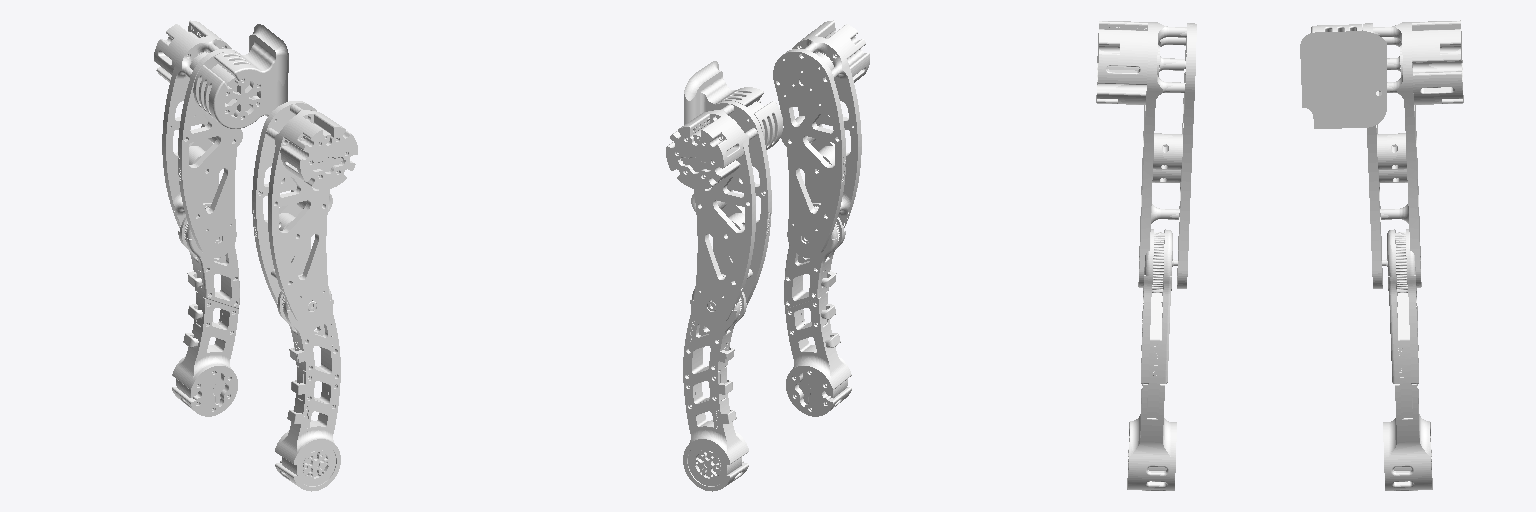
robot.urdf — wheel_GOAT:
<?xml version="1.0" encoding="utf-8"?>
<robot name="wheel_GOAT">
    <!-- Enable when Base link is fixed -->
    
    <!-- 
    <link name="world"/>
    <joint name="base_static_Joint" type="fixed">
        <origin rpy="0 0 0" xyz="0 0 0.3"/>
        <parent link="world"/>
        <child link="base_Link"/>
    </joint>
    -->

    <!-- ****************************************** Link ******************************************************** -->

    <link name="base_Link">
        <!-- No Hip motor version -->
        <inertial>
            <origin rpy="0 0 0" xyz="0.0 0.0 0.0"/>
            <mass value="2.810462"/>
            <inertia ixx="14480E-06" ixy="-37.700908E-06" ixz="4110E-06"
                    iyy="19890E-06" iyz="18.913079E-06" izz="17430E-06"/>
        </inertial>
        <visual>
            <origin xyz="0.0 0.0 0.0" rpy="0 0 0"/>
            <geometry>
                <mesh filename="../meshes/base_Link.stl"/>
            </geometry>
            <material name="blue">
                <color rgba="0.0 0.0 0.8 1.0"/>
            </material>
        </visual>
        <collision>
            <origin xyz="-11E-03 0E-03 41E-03" rpy="0 0 0"/>
            <geometry>
                <box size="0.214 0.200 0.182"/>
            </geometry>
        </collision>
        <!-- <collision>
            <origin xyz="0.07 0.0 -0.078" rpy="0 0 0"/>
            <geometry>
                <box size="0.07 0.25 0.08"/>
            </geometry>
        </collision> -->
    </link>

    <link name="hip_L_Link">
        <inertial>
            <origin rpy="0 0 0" xyz="-47.762E-03 -38.810E-03 0.471E-03"/>
            <mass value="0.320539"/>
            <inertia ixx="143.9E-06" ixy="-5.376781E-06" ixz="-10.335937E-06"
                    iyy="227.7E-06" iyz="-1.391116E-06" izz="195.4E-06"/>
        </inertial>
        <visual>
            <origin xyz="0 0 0" rpy="0 0 0"/>
            <geometry>
                <mesh filename="../meshes/hip_L_Link.stl"/>
            </geometry>
            <material name="white">
                <color rgba="1.0 1.0 1.0 1.0"/>
            </material>
        </visual>
        <collision>
            <origin xyz="-53.5E-03 0 0" rpy="1.57 0 0"/>
            <geometry>
                <cylinder length="135E-03" radius="42E-03"/>
            </geometry>
        </collision>
    </link>

    <link name="hip_R_Link">
        <inertial>
            <origin rpy="0 0 0" xyz="-47.762E-03 38.810E-03 0.471E-03"/>
            <mass value="0.320539"/>
            <inertia ixx="143.9E-06" ixy="5.376781E-06" ixz="-10.335937E-06"
                    iyy="227.7E-06" iyz="1.391116E-06" izz="195.4E-06"/>
        </inertial>
        <visual>
            <origin xyz="0 0 0" rpy="0 0 0"/>
            <geometry>
                <mesh filename="../meshes/hip_R_Link.stl"/>
            </geometry>
            <material name="white">
                <color rgba="1.0 1.0 1.0 1.0"/>
            </material>
        </visual>
        <collision>
            <origin xyz="-53.5E-03 0 0" rpy="1.57 0 0"/>
            <geometry>
                <cylinder length="135E-03" radius="42E-03"/>
            </geometry>
        </collision>
    </link>

    <link name="thigh_L_Link">
        <inertial>
            <origin rpy="0 0 0" xyz="-2.656E-03 48.26E-03 -41.71E-03"/>
            <mass value="0.520075"/>
            <inertia ixx="2950E-06" ixy="-30.788885E-06" ixz="-120.3E-06"
                    iyy="2808E-06" iyz="-490E-06" izz="489.2E-06"/>
        </inertial>
        <visual>
            <origin xyz="0 0 0" rpy="0 0 0"/>
            <geometry>
                <mesh filename="../meshes/thigh_L_Link.stl"/>
            </geometry>
            <material name="white">
                <color rgba="1.0 1.0 1.0 1.0"/>
            </material>
        </visual>
        <collision>
            <origin xyz="-11E-03 16E-03 -116E-03" rpy="0 0 0"/>
            <geometry>
                <box size="0.09 0.05 0.145"/>
            </geometry>
        </collision>
    </link>

    <link name="thigh_R_Link">
        <inertial>
            <origin rpy="0 0 0" xyz="-2.656E-03 -48.26E-03 -41.71E-03"/>
            <mass value="0.520075"/>
            <inertia ixx="2950E-06" ixy="30.788885E-06" ixz="-120.3E-06"
                    iyy="2808E-06" iyz="490E-06" izz="489.2E-06"/>
                    
        </inertial>
        <visual>
            <origin xyz="0 0 0" rpy="0 0 0"/>
            <geometry>
                <mesh filename="../meshes/thigh_R_Link.stl"/>
            </geometry>
            <material name="white">
                <color rgba="1.0 1.0 1.0 1.0"/>
            </material>
        </visual>
        <collision>
            <origin xyz="-11E-03 -16E-03 -116E-03" rpy="0 0 0"/>
            <geometry>
                <box size="0.09 0.05 0.145"/>
            </geometry>
        </collision>
    </link>
        
    <link name="calf_L_Link">
        <inertial>
            <origin rpy="0 0 0" xyz="2.229E-03 0.879E-03 -153.549E-03"/>
            <mass value="0.326882"/>
            <inertia ixx="1948E-06" ixy="0.336927E-06" ixz="-35.309161E-06"
                    iyy="1991E-06" iyz="10.159437E-06" izz="105.7E-06"/>
        </inertial>
        <visual>
            <origin xyz="0 0 0" rpy="0 0 0"/>
            <geometry>
                <mesh filename="../meshes/calf_L_Link.stl"/>
            </geometry>
            <material name="white">
                <color rgba="1.0 1.0 1.0 1.0"/>
            </material>
        </visual>
        <collision>
            <origin xyz="0 0 -116E-03" rpy="0 0 0"/>
            <geometry>
                <cylinder length="233E-03" radius="32.5E-03"/>
            </geometry>
        </collision>
    </link>

    <link name="calf_R_Link">
        <inertial>
            <origin rpy="0 0 0" xyz="2.229E-03 -0.879E-03 -153.549E-03"/>
            <mass value="0.326882"/>
            <inertia ixx="1948E-06" ixy="-0.336927E-06" ixz="-35.309161E-06"
                    iyy="1991E-06" iyz="-10.159437E-06" izz="105.7E-06"/>
        </inertial>
        <visual>
            <origin xyz="0 0 0" rpy="0 0 0"/>
            <geometry>
                <mesh filename="../meshes/calf_R_Link.stl"/>
            </geometry>
            <material name="white">
                <color rgba="1.0 1.0 1.0 1.0"/>
            </material>
        </visual>
        <collision>
            <origin xyz="0 0 -116E-03" rpy="0 0 0"/>
            <geometry>
                <cylinder length="233E-03" radius="32.5E-03"/>
            </geometry>
        </collision>
    </link>

    <!-- BFW -->
    <link name="wheel_L_Link">
        <inertial>
            <origin rpy="0 0 0" xyz="0.00E-03 30.66E-03 0.00E-03" />
            <mass value="0.985" />
            <inertia ixx="3366E-06" ixy="0.00E-06" ixz="0.00E-06" 
                    iyy="6306E-06" iyz="0.00E-06" izz="3366E-06" />
        </inertial>
        <visual>
            <origin rpy="0 0 0" xyz="0 0 0" />
            <geometry>
                <mesh filename="../meshes/BF_wheel_L_Link.stl"/>
            </geometry>
            <material name="black">
                <color rgba="0.0 0.0 0.0 1.0"/>
            </material>
        </visual>
        <collision>
            <origin rpy="1.5707963267948966 0 0" xyz="0 0.03 0" />
            <geometry>
                <cylinder length="0.05" radius="0.095" />
            </geometry>
        </collision>
    </link>

    <!-- <link name="wheel_L_Link">
        <inertial>
            <origin rpy="0 0 0" xyz="0.0 8.265E-03 0.0" />
            <mass value="0.220" />
            <inertia ixx="352.7E-06" ixy="0.0" ixz="0.0" 
                    iyy="674E-06" iyz="0.0" izz="352.7E-06" />
        </inertial>
        <visual>
            <origin rpy="0 0 0" xyz="0 0 0" />
            <geometry>
                <mesh filename="../meshes/wheel_L_Link.stl"/>
            </geometry>
            <material name="black">
                <color rgba="0.0 0.0 0.0 1.0"/>
            </material>
        </visual>
        <collision>
            <origin rpy="1.5707963267948966 0 0" xyz="0 7E-03 0" />
            <geometry>
                <cylinder length="7E-03" radius="72.75E-03" />
            </geometry>
        </collision>
    </link> -->

    <!-- BFW -->
    <link name="wheel_R_Link">
        <inertial>
            <origin rpy="0 0 0" xyz="0.00E-03 -30.66E-03 0.00E-03" />
            <mass value="0.985" />
            <inertia ixx="3366E-06" ixy="0.00E-06" ixz="0.00E-06" 
                    iyy="6306E-06" iyz="0.00E-06" izz="3366E-06" />
        </inertial>
        <visual>
            <origin rpy="0 0 0" xyz="0 0 0" />
            <geometry>
                <mesh filename="../meshes/BF_wheel_R_Link.stl"/>
            </geometry>
            <material name="black">
                <color rgba="0.0 0.0 0.0 1.0"/>
            </material>
        </visual>
        <collision>
            <origin rpy="1.5707963267948966 0 0" xyz="0 -0.03 0" />
            <geometry>
                <cylinder length="0.05" radius="0.095" />
            </geometry>
        </collision>
    </link>

    <!-- <link name="wheel_R_Link">
        <inertial>
            <origin rpy="0 0 0" xyz="0.0 -8.265E-03 0.0" />
            <mass value="0.220" />
            <inertia ixx="352.7E-06" ixy="0.0" ixz="0.0" 
                    iyy="674E-06" iyz="0.0" izz="352.7E-06" />
        </inertial>
        <visual>
            <origin rpy="0 0 0" xyz="0 0 0" />
            <geometry>
                <mesh filename="../meshes/wheel_R_Link.stl"/>
            </geometry>
            <material name="black">
                <color rgba="0.0 0.0 0.0 1.0"/>
            </material>
        </visual>
        <collision>
            <origin rpy="1.5707963267948966 0 0" xyz="0 -7E-03 0" />
            <geometry>
                <cylinder length="7E-03" radius="72.75E-03" />
            </geometry>
        </collision>
    </link> -->

    <link name="imu_link">
        <!-- <visual>
            <origin rpy="0 0 0" xyz="0 0 0"/>
            <geometry>
                <box size="0.02 0.02 0.01"/> </geometry>
            <material name="red"/>
        </visual> -->
    </link>


    <!-- ****************************************** Joint ******************************************************** -->
    
    <joint name="hip_L_Joint" type="fixed">
        <origin xyz="57.5927E-03 96.3302E-03 -99.20596E-03" rpy="0.034906585 0 0"/>
        <parent link="base_Link"/>
        <child link="hip_L_Link"/>
        <!--
        <axis xyz="-1 0 0"/>
        <limit effort="4.5" lower="-1.7453" upper="1.0123" velocity="33.5"/>
        <dynamics damping="0.0" stiffness ="0.0"/>
        <dynamics friction="0.0" />
        -->
    </joint>
    
    <joint name="hip_R_Joint" type="fixed">
        <origin xyz="57.5927E-03 -96.3302E-03 -99.20596E-03" rpy="-0.034906585 0 0"/>
        <parent link="base_Link"/>
        <child link="hip_R_Link"/>
        <!--
        <axis xyz="-1 0 0"/>
        <limit effort="4.5" lower="-1.0123" upper="1.7453" velocity="33.5"/>
        <dynamics damping="0.0" stiffness ="0.0"/>
        <dynamics friction="0.0" />
        -->
    </joint>
    
    <joint name="thigh_L_Joint" type="revolute">
        <origin xyz="-54E-03 -17E-03 0" rpy="0 0 0"/>
        <parent link="hip_L_Link"/>
        <child link="thigh_L_Link"/>
        <axis xyz="0 1 0"/>
        <limit effort="4.5" lower="-0.3840" upper="2.0071" velocity="33.5"/>
        <dynamics damping="0.0" stiffness ="0.0"/>
        <dynamics friction="0.0" />
    </joint>

    <joint name="thigh_R_Joint" type="revolute">
        <origin xyz="-54E-03 17E-03 0" rpy="0 0 0"/>
        <parent link="hip_R_Link"/>
        <child link="thigh_R_Link"/>
        <axis xyz="0 -1 0"/>
        <limit effort="4.5" lower="-2.0071" upper="0.3840" velocity="33.5"/>
        <dynamics damping="0.0" stiffness ="0.0"/>
        <dynamics friction="0.0" />
    </joint>

    <joint name="knee_L_Joint" type="revolute">
        <origin xyz="0 23E-03 -205E-03" rpy="0 0 0"/>
        <parent link="thigh_L_Link"/>
        <child link="calf_L_Link"/>
        <axis xyz="0 -1 0"/>
        <limit effort="9.0" lower="-0.523599" upper="2.3387" velocity="33.5"/>
        <dynamics damping="0.0" stiffness ="0.0"/>
        <dynamics friction="0.0" />
    </joint>

    <joint name="knee_R_Joint" type="revolute">
        <origin xyz="0 -23E-03 -205E-03" rpy="0 0 0"/>
        <parent link="thigh_R_Link"/>
        <child link="calf_R_Link"/>
        <axis xyz="0 1 0"/>
        <limit effort="9.0" lower="-2.3387" upper="0.523599" velocity="33.5"/>
        <dynamics damping="0.0" stiffness ="0.0"/>
        <dynamics friction="0.0" />
    </joint>

    <joint name="wheel_L_Joint" type="revolute">
        <origin xyz="0 20.7E-03 -200E-03" rpy="0 0 0"/>
        <parent link="calf_L_Link" />
        <child link="wheel_L_Link" />
        <axis xyz="0 1 0" />
        <limit effort="2.5" lower="-1000000" upper="1000000" velocity="33.5" />
        <dynamics damping="0.0" stiffness="0.0"/>
        <dynamics friction="0.0" />
    </joint>
    
    <joint name="wheel_R_Joint" type="revolute">
        <origin xyz="0 -20.7E-03 -200E-03" rpy="0 0 0"/>
        <parent link="calf_R_Link" />
        <child link="wheel_R_Link" />
        <axis xyz="0 -1 0" />
        <limit effort="2.5" lower="-1000000" upper="1000000" velocity="33.5" />
        <dynamics damping="0.0" stiffness="0.0"/>
        <dynamics friction="0.0" />
    </joint>

    <joint name="imu_joint" type="fixed">
        <parent link="base_Link"/>
        <child link="imu_link"/>
        <origin xyz="0 0 0" rpy="0 0 0"/>
    </joint>
    
    <!-- ****************************************** D435 Camera ******************************************************** -->
    <!--
    <joint name="d435_joint" type="fixed">
        <origin rpy="0 1.063778179 0" xyz="0.13223 0.0222 -0.26826"/>
        <parent link="base_Link"/>
        <child link="d435_Link"/>
    </joint>
    <link name="d435_Link">
        <visual>
            <origin rpy="1.5707963267948966 0 1.5707963267948966" xyz="0.0149 -0.0175 0"/>
            <geometry>
                <mesh filename="package://goat_description/meshes_camera/d435.dae" scale="1 1 1"/>
            </geometry>
        </visual>
        <collision>
            <origin rpy="0 0 0" xyz="0 -0.0175 0"/>
            <geometry>
                <box size="0.02505 0.09 0.025"/>
            </geometry>
        </collision>
    </link>
    -->
    <!-- ****************************************** D435 Camera END ******************************************************** -->
</robot>

--- Render facts (derived) ---
3 views of the same robot in one strip: view 1: azimuth 30°, elevation 25°; view 2: azimuth 150°, elevation 25°; view 3: azimuth 270°, elevation 25° (orthographic).
Robot: wheel_GOAT — 10 links, 9 joints (6 revolute, 3 fixed); root link base_Link; default pose: all joints at 0.
Visible links, largest first — view 1: thigh_R_Link, thigh_L_Link, calf_R_Link, calf_L_Link, hip_L_Link; view 2: thigh_L_Link, thigh_R_Link, calf_L_Link, calf_R_Link, hip_L_Link; view 3: thigh_R_Link, thigh_L_Link, calf_L_Link, calf_R_Link, hip_L_Link.
Boxes of the visible links, left/top/right/bottom form: thigh_R_Link: left=252, top=101, right=357, bottom=325; thigh_L_Link: left=154, top=20, right=242, bottom=257; calf_R_Link: left=275, top=274, right=340, bottom=491; calf_L_Link: left=172, top=203, right=239, bottom=416; hip_L_Link: left=193, top=24, right=288, bottom=128; thigh_L_Link: left=666, top=101, right=771, bottom=325; thigh_R_Link: left=773, top=20, right=869, bottom=257; calf_L_Link: left=683, top=274, right=748, bottom=491; calf_R_Link: left=784, top=203, right=851, bottom=416; hip_L_Link: left=684, top=61, right=782, bottom=149; thigh_R_Link: left=1096, top=21, right=1196, bottom=288; thigh_L_Link: left=1363, top=20, right=1463, bottom=288; calf_L_Link: left=1383, top=229, right=1432, bottom=490; calf_R_Link: left=1127, top=229, right=1176, bottom=490; hip_L_Link: left=1300, top=24, right=1386, bottom=128.
Bounding box of the posed robot: 0.1075 × 0.3437 × 0.498 m (x, y, z).
Meshes: 9 distinct files referenced, 5 mesh visuals loaded (5 binary STL); not drawn: 4 (reference not matched to a file when rendering).
